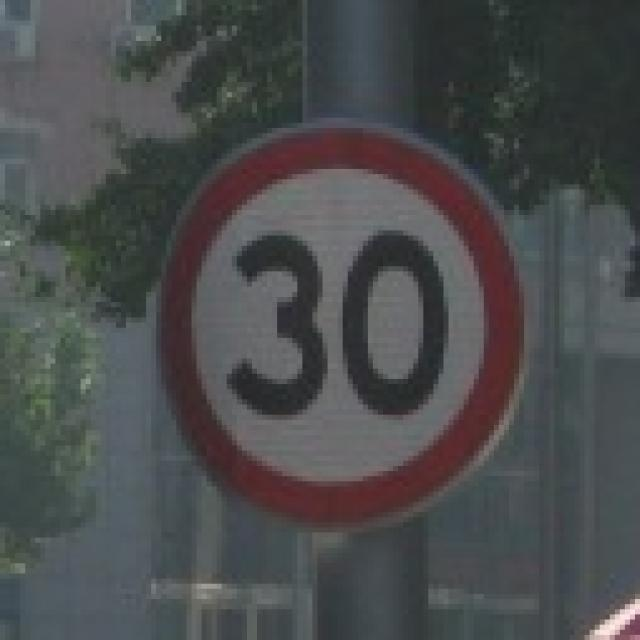Speed Limit -30-: (224, 226, 456, 424)
